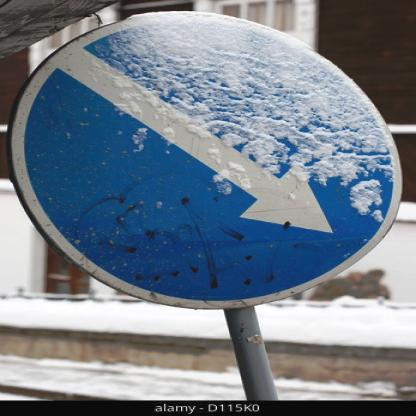Keep right: (11, 11, 409, 309)
